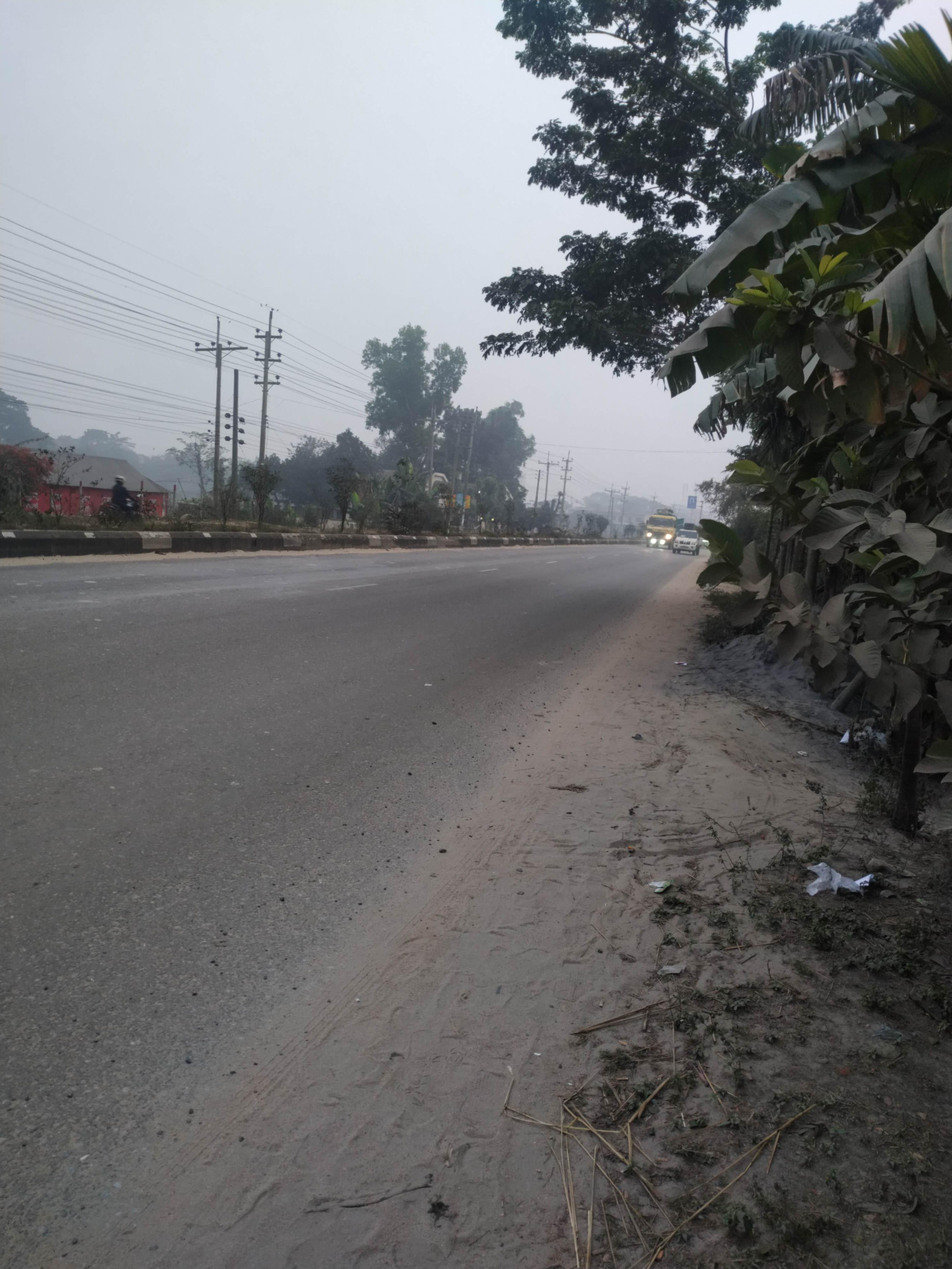Truck: (635, 500, 681, 546), (668, 517, 707, 556)
